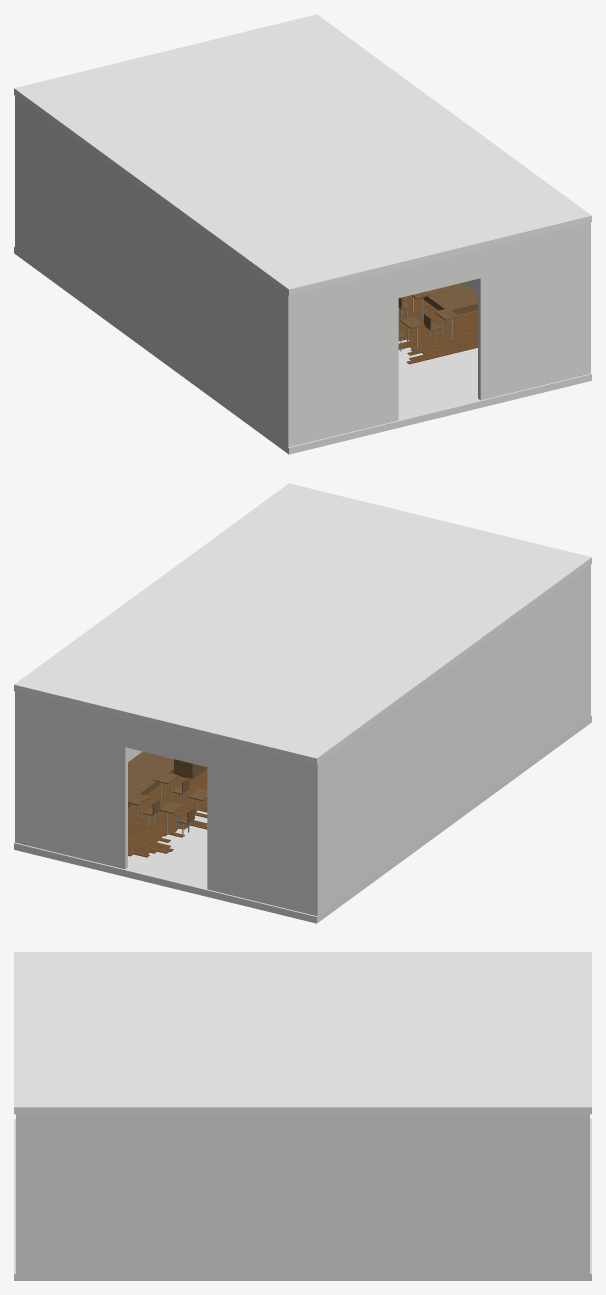
The model's file is room_classroom_s1.glb.
3 renders of one model, top to bottom at view 1: azimuth 30°, elevation 25°; view 2: azimuth 150°, elevation 25°; view 3: azimuth 270°, elevation 25°, orthographic. The views are drawn at different scales.
Visible parts, largest first — view 1: room_classroom_s1_static; view 2: room_classroom_s1_static; view 3: room_classroom_s1_static.
Part boxes in pixels (x1,y1,x2,y2): room_classroom_s1_static: (14,14,591,454); room_classroom_s1_static: (14,483,591,923); room_classroom_s1_static: (14,952,591,1280).
Bounding box in the file's own units: 9.6 × 5 × 15.1.
16 materials, 3 textured.
